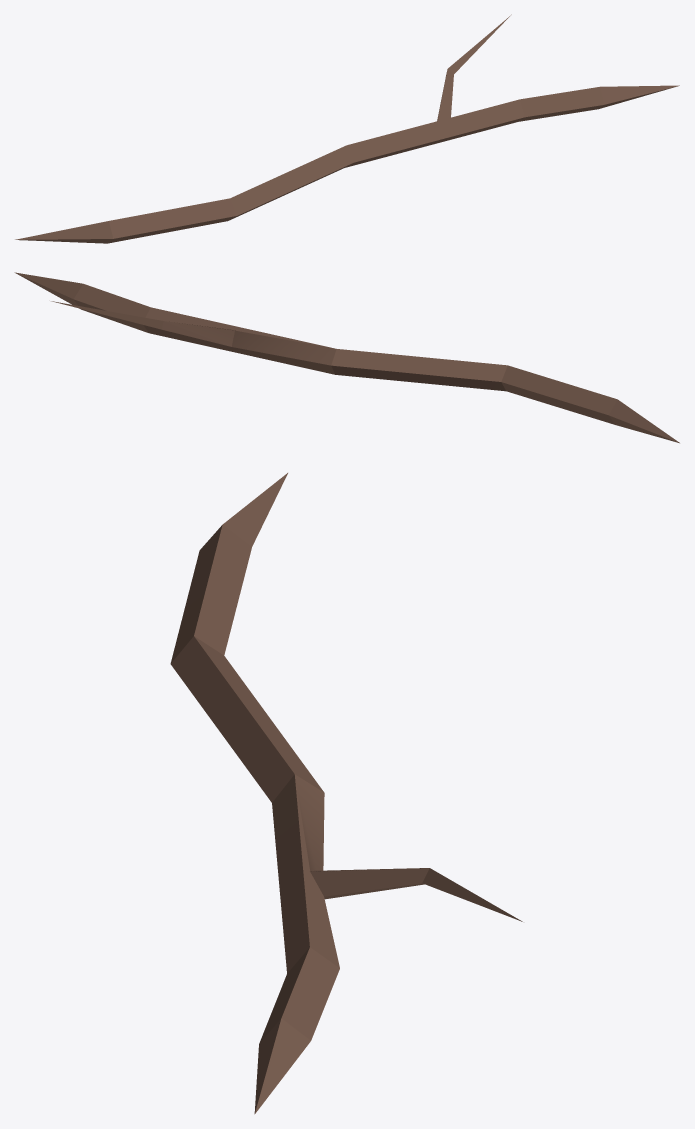
File: SM_Stick_01.fbx
The picture shows the model from 3 angles, top to bottom: view 1: azimuth 30°, elevation 25°; view 2: azimuth 150°, elevation 25°; view 3: azimuth 270°, elevation 25°; orthographic projection. The views are drawn at different scales.
Visible parts, largest first — view 1: SM_Stick_01; view 2: SM_Stick_01; view 3: SM_Stick_01.
Boxes of the visible parts, x1,y1,x2,y2 form: SM_Stick_01: (15, 14, 679, 243); SM_Stick_01: (14, 272, 679, 443); SM_Stick_01: (170, 473, 522, 1114).
Size of the model in its own units: 114 by 9.68 by 26.53.
